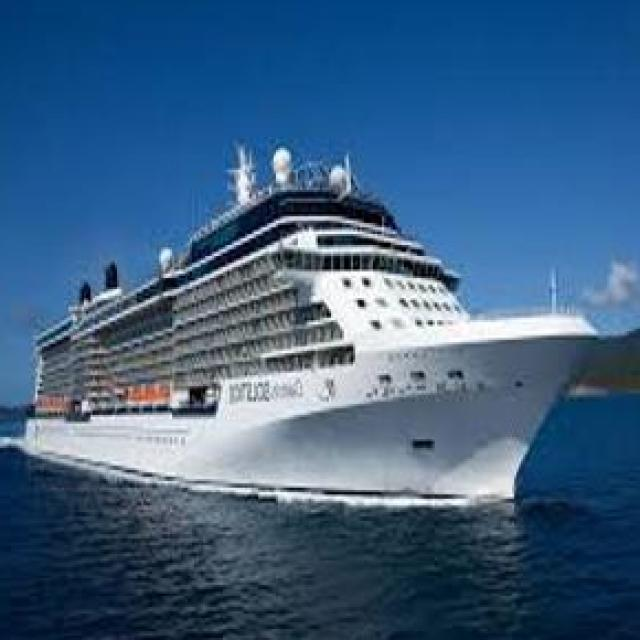passenger ship: (16, 150, 606, 508)
